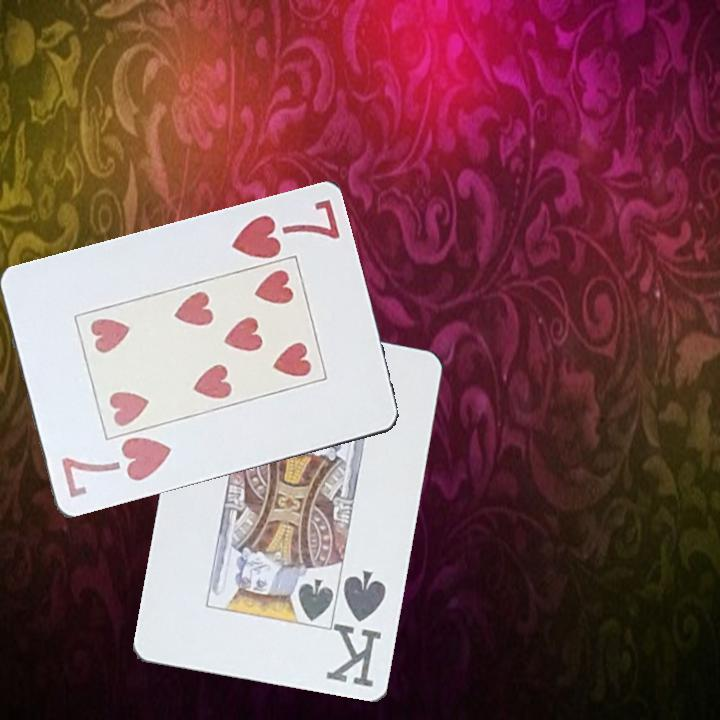7h: (57, 434, 175, 501), (227, 196, 343, 263)
Ks: (326, 567, 390, 691)
